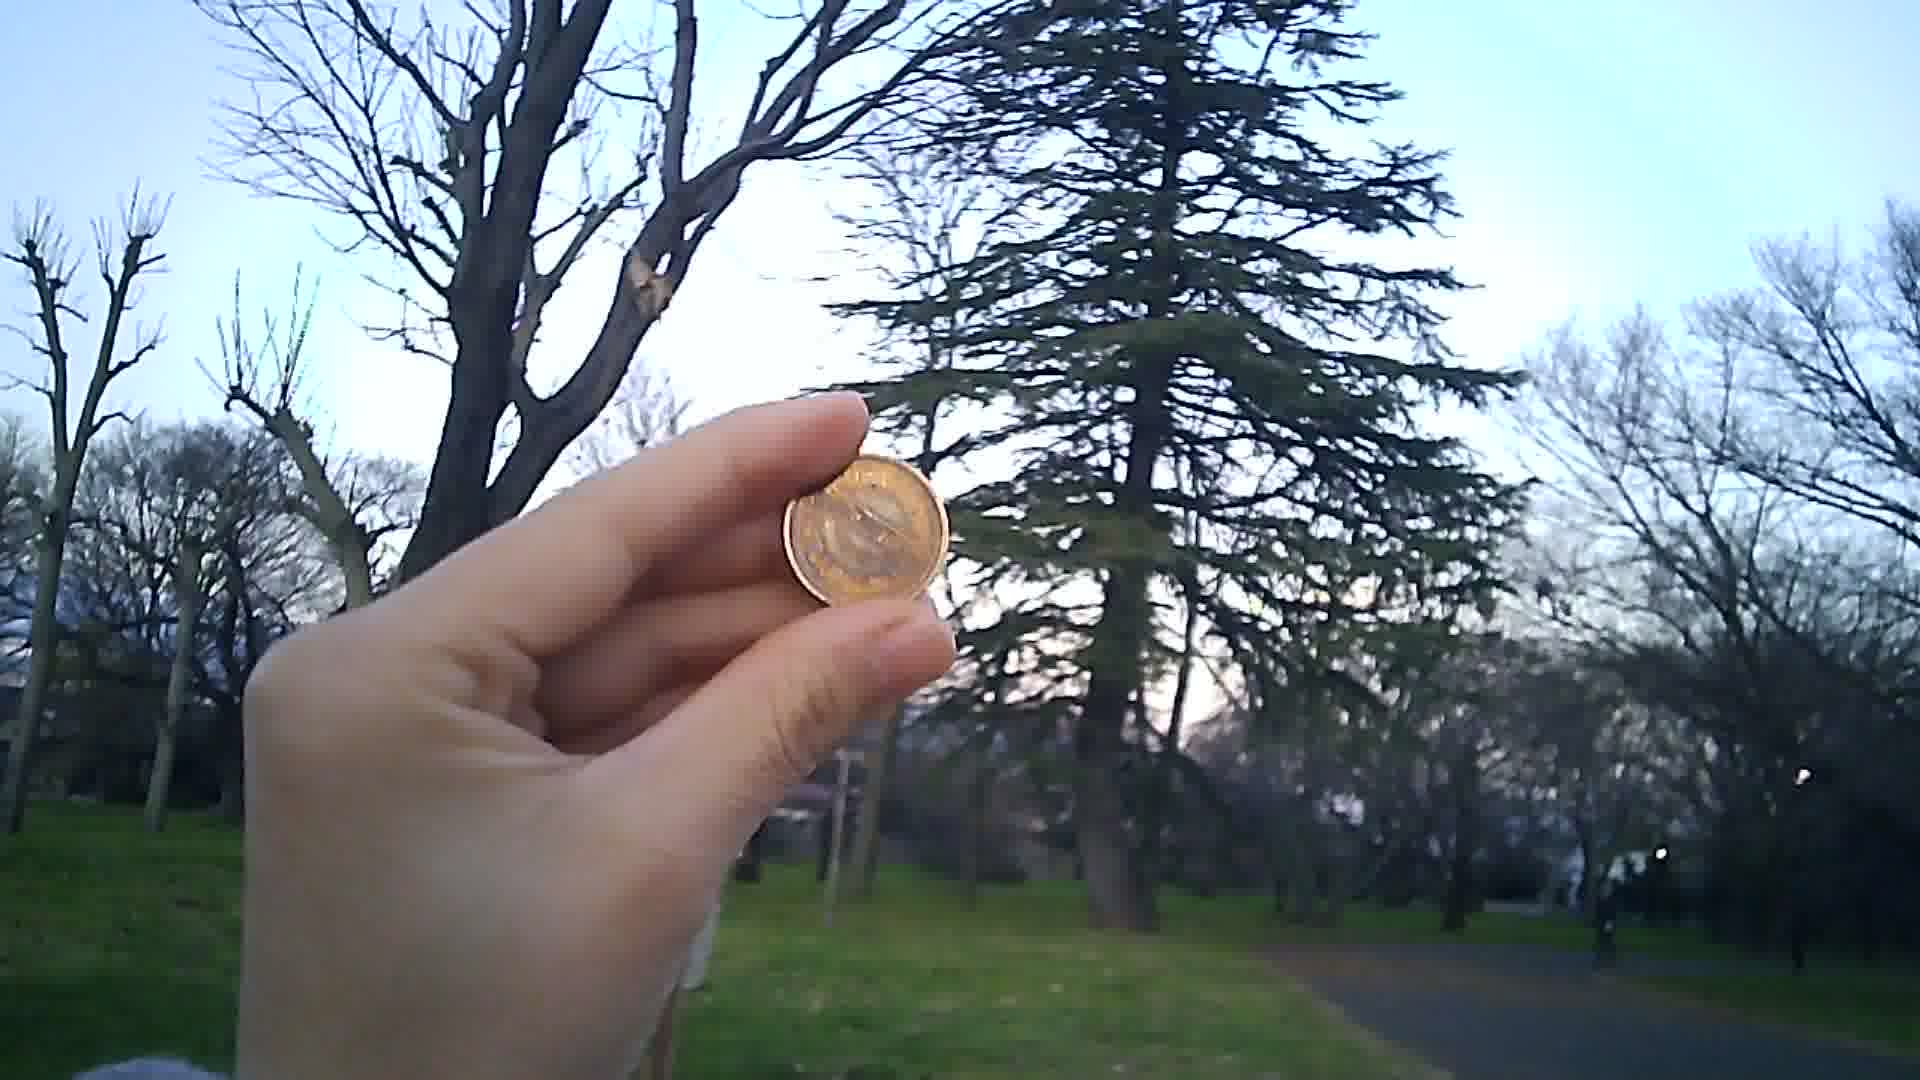10 Yen: (779, 436, 953, 605)
